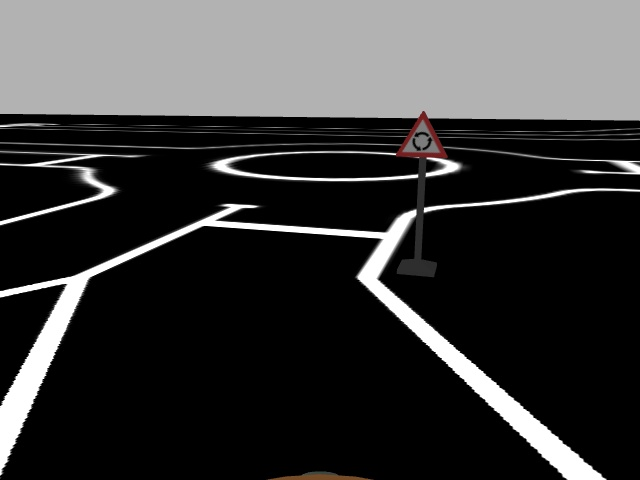roundabout: (394, 110, 449, 158)
